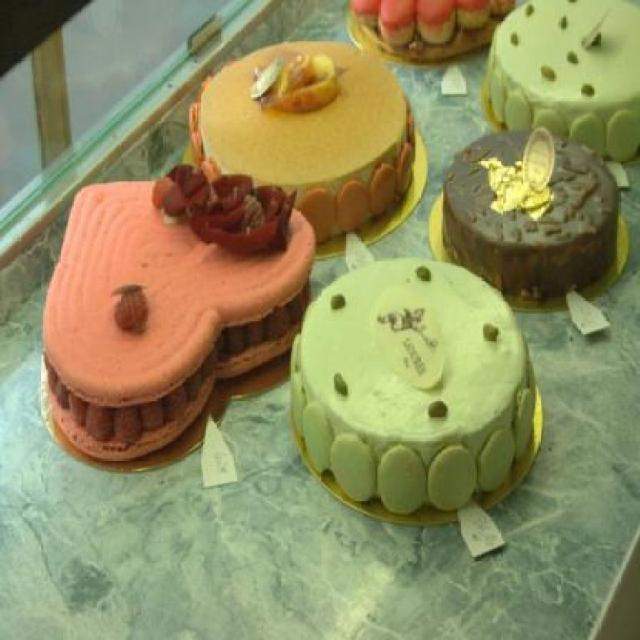Cake: (40, 169, 317, 462), (289, 255, 534, 514), (187, 41, 418, 244), (482, 0, 640, 162), (347, 0, 510, 52)
